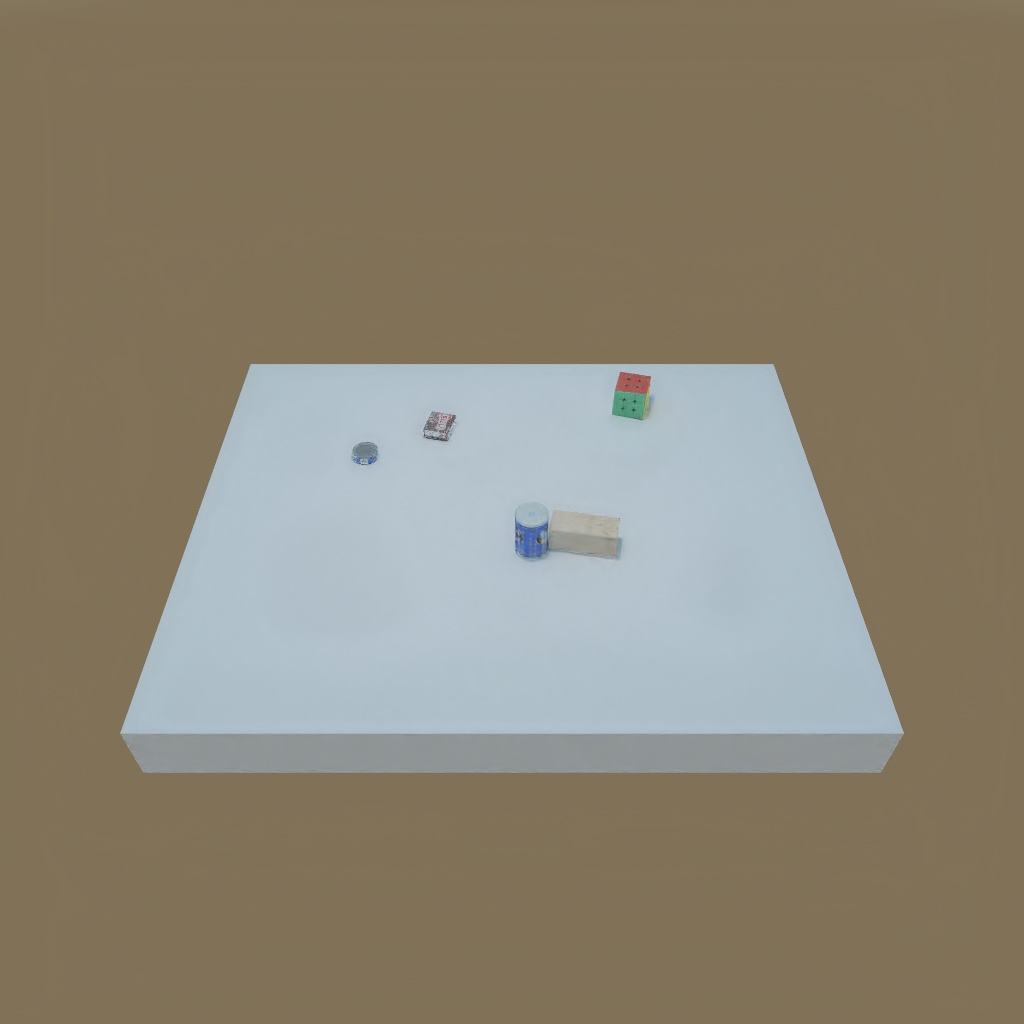master_chef_can: (510, 503, 555, 565)
pudding_box: (421, 410, 459, 443)
rubiks_cube: (611, 368, 657, 423)
wood_block: (549, 510, 623, 559)
